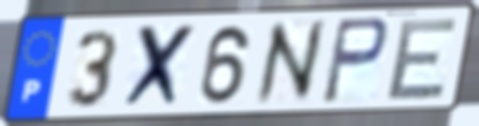3: (65, 28, 120, 110)
6: (198, 22, 254, 107)
E: (383, 15, 462, 103)
N: (253, 16, 328, 109)
P: (318, 15, 391, 107)
X: (118, 21, 200, 113)
